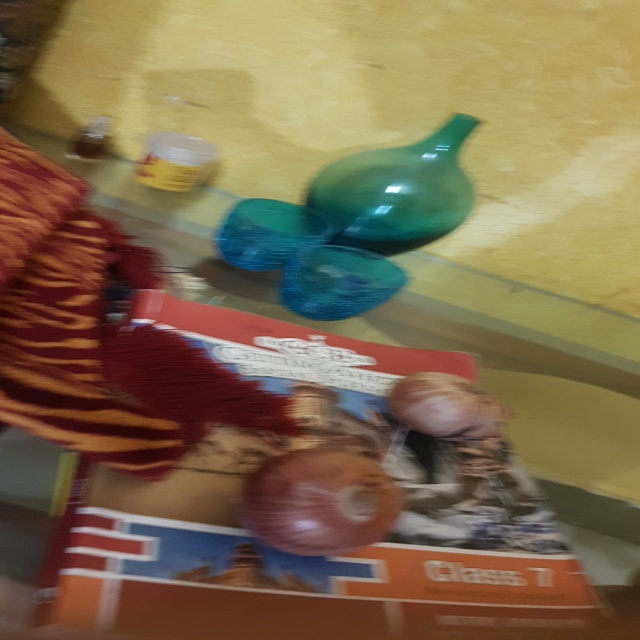onion: (243, 443, 410, 564), (385, 367, 497, 446)
